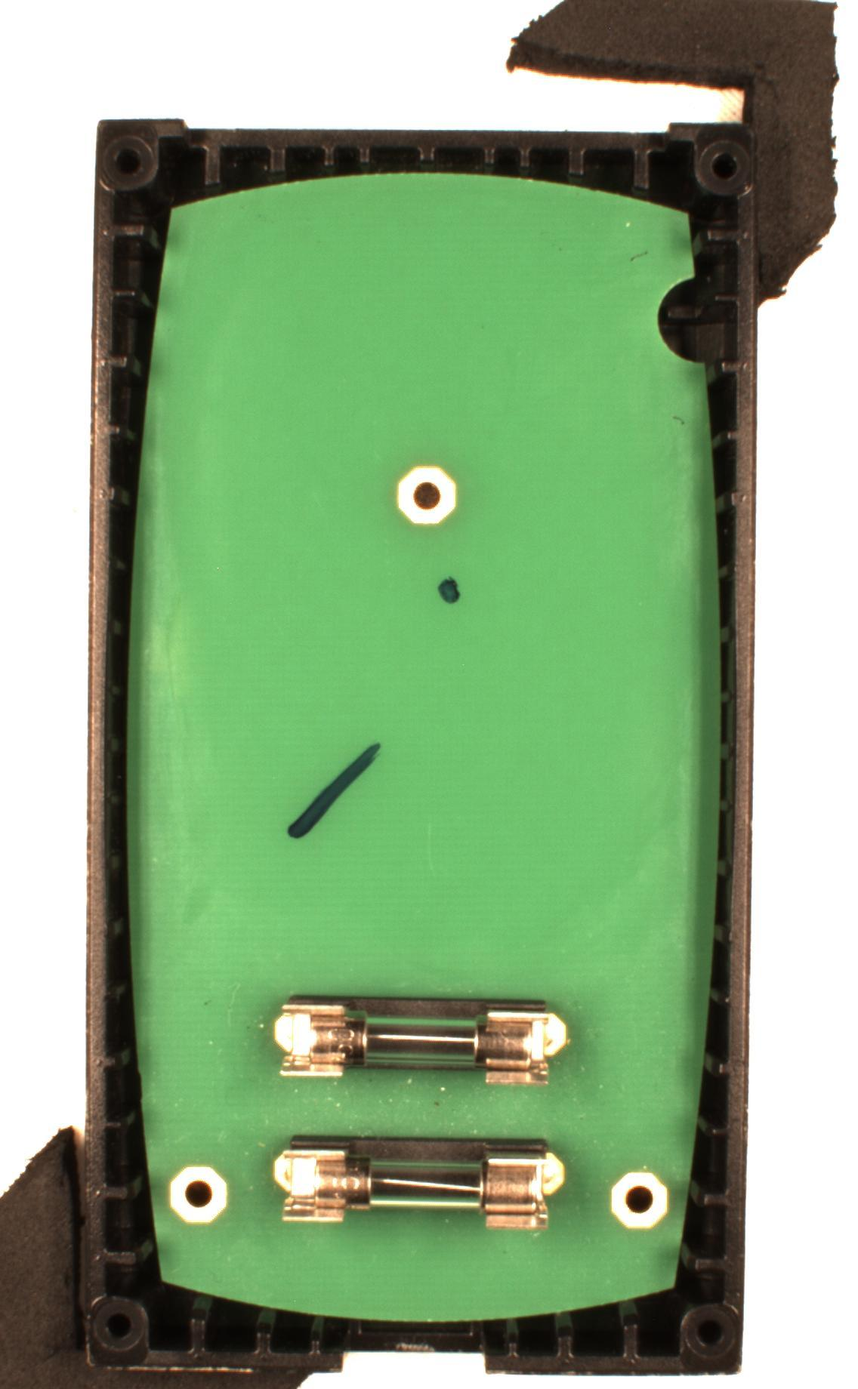Linijsko Ostecene: (283, 737, 385, 842)
Tockasto Ostecenje: (435, 574, 462, 608)
